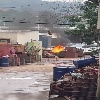fire: (50, 45, 64, 52)
